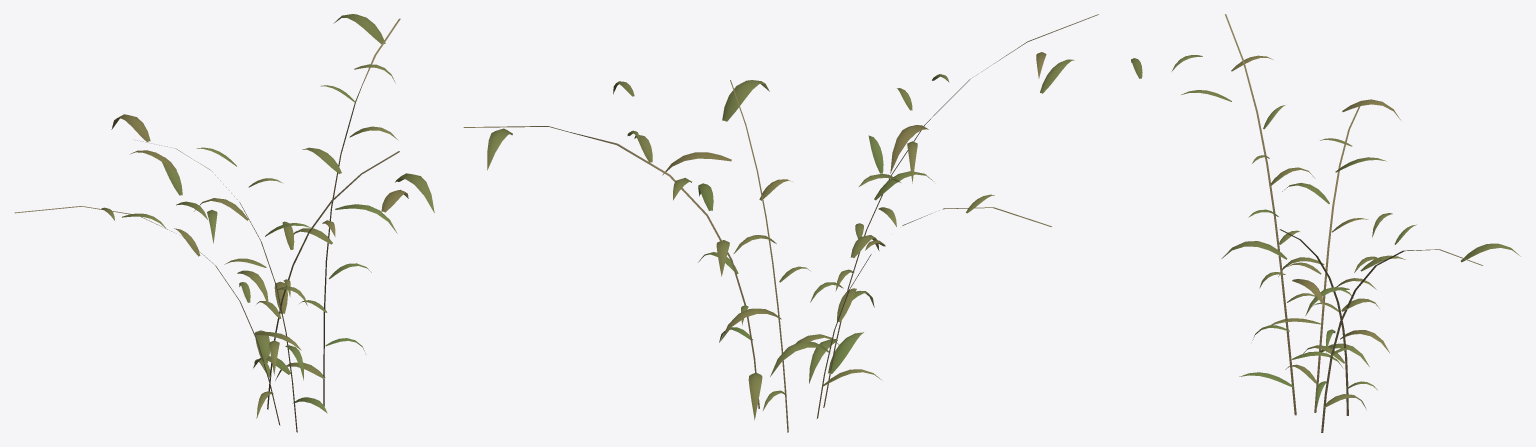
Rendered from pondweed_0.glb.
3 views of the same model, side by side, from view 1: azimuth 30°, elevation 25°; view 2: azimuth 150°, elevation 25°; view 3: azimuth 270°, elevation 25° (orthographic). The views are drawn at different scales.
Parts seen in each view (by area): view 1: pondweed_0; view 2: pondweed_0; view 3: pondweed_0.
Part boxes in pixels (bbox=[...]): pondweed_0: bbox=[14, 14, 434, 432]; pondweed_0: bbox=[463, 14, 1142, 432]; pondweed_0: bbox=[1171, 14, 1520, 432].
Size of the model in its own units: 1.22 by 0.9541 by 0.9587.
